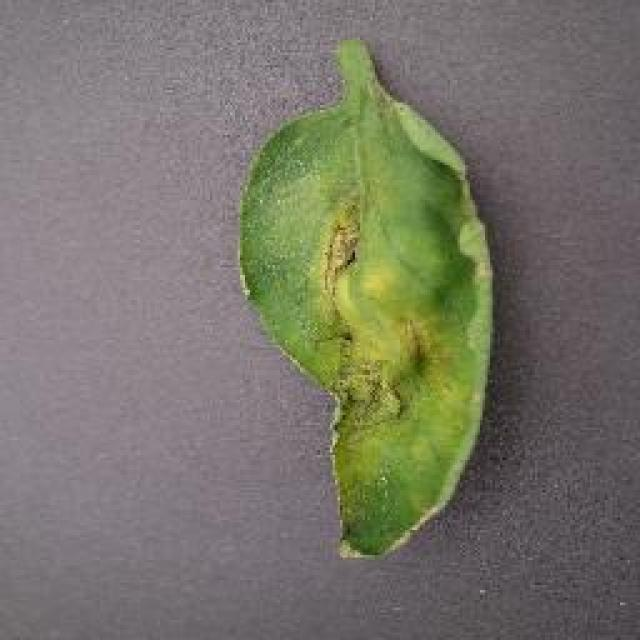Tomato Late Blight: (242, 184, 396, 448)
